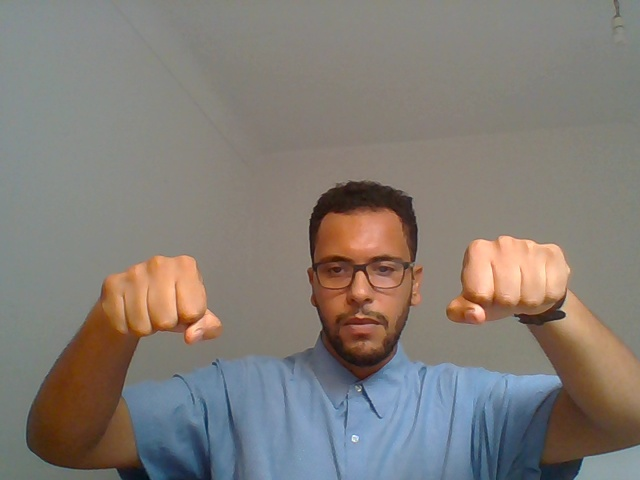yes: (433, 217, 608, 377), (64, 222, 242, 377)
